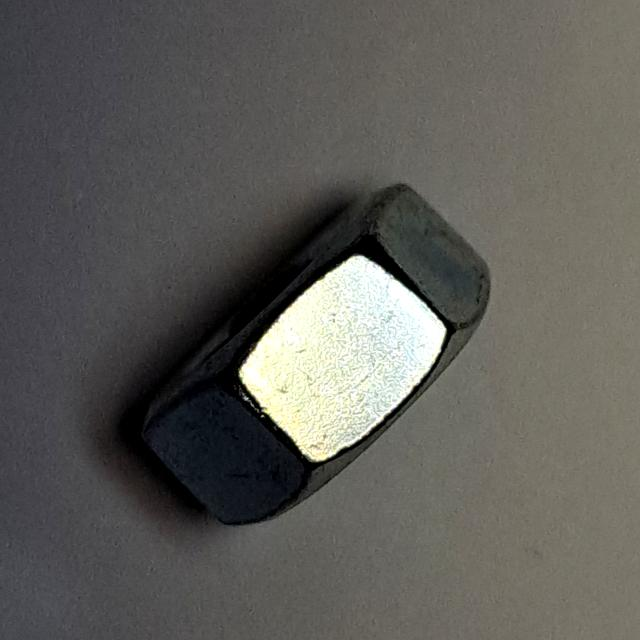Side_Excellent: (113, 158, 506, 539)
